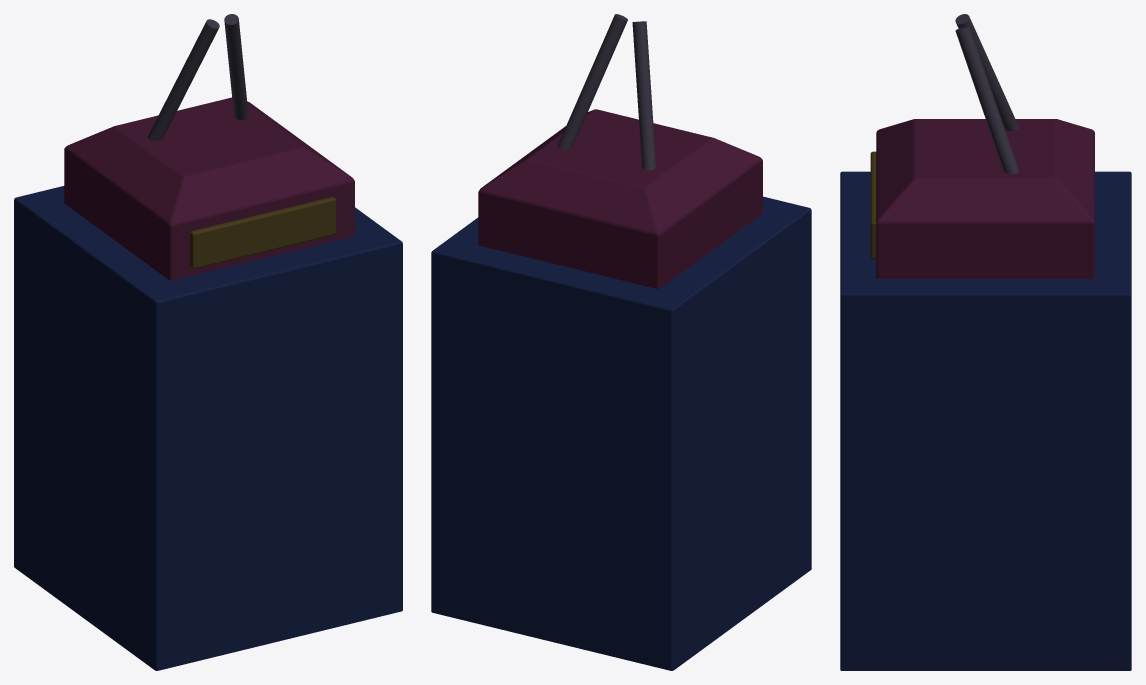
File: stand.fbx
3 views of the same model, side by side, from view 1: azimuth 30°, elevation 25°; view 2: azimuth 150°, elevation 25°; view 3: azimuth 270°, elevation 25° (orthographic). The views are drawn at different scales.
Visible parts, largest first — view 1: stand; view 2: stand; view 3: stand.
Boxes of the visible parts, x1=… form: stand: x1=14, y1=14, x2=402, y2=670; stand: x1=431, y1=14, x2=811, y2=670; stand: x1=840, y1=14, x2=1131, y2=670.
Size of the model in its own units: 267 by 595 by 267.
